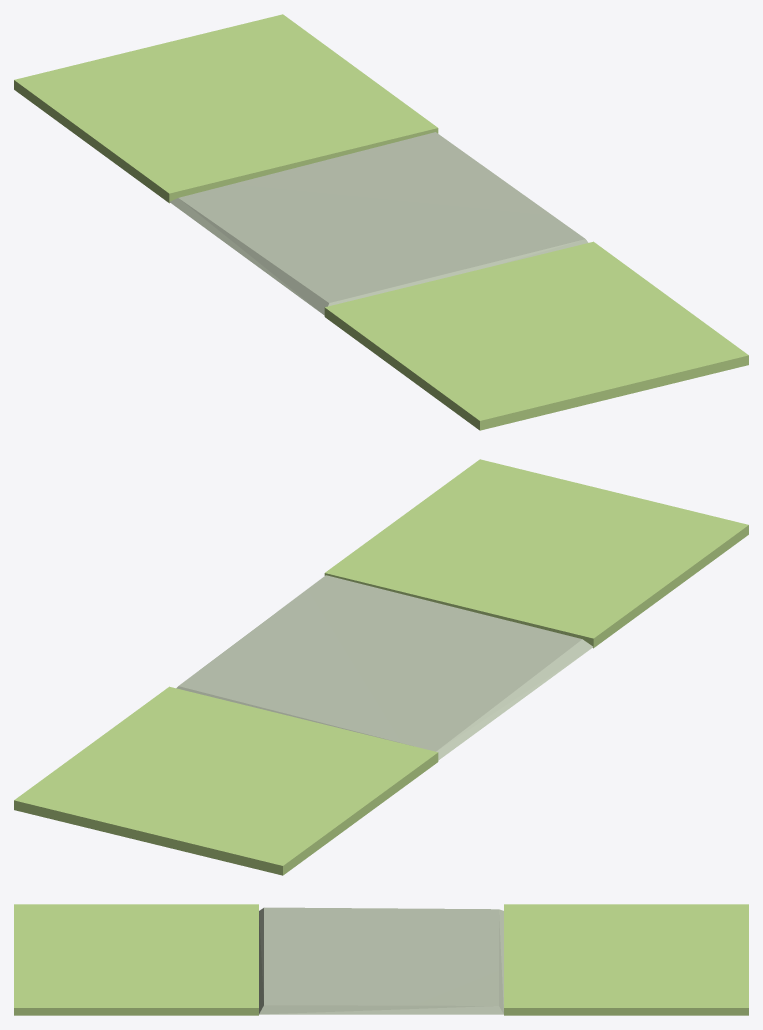
File: sidewalk.gltf
3 views of the same model, one above another, from view 1: azimuth 30°, elevation 25°; view 2: azimuth 150°, elevation 25°; view 3: azimuth 270°, elevation 25° (orthographic). The views are drawn at different scales.
Parts seen in each view (by area): view 1: Cube (×2), mesh1926919455; view 2: Cube (×2), mesh1926919455; view 3: Cube (×2), mesh1926919455.
Boxes of the visible parts, box(x1,y1,x2,y2) form: Cube (×2): box(14, 14, 748, 430); mesh1926919455: box(170, 132, 588, 315); Cube (×2): box(14, 459, 748, 875); mesh1926919455: box(176, 575, 592, 760); Cube (×2): box(14, 904, 748, 1015); mesh1926919455: box(259, 907, 503, 1014).
Bounding box in the file's own units: 3.48 × 0.1358 × 10.44.
